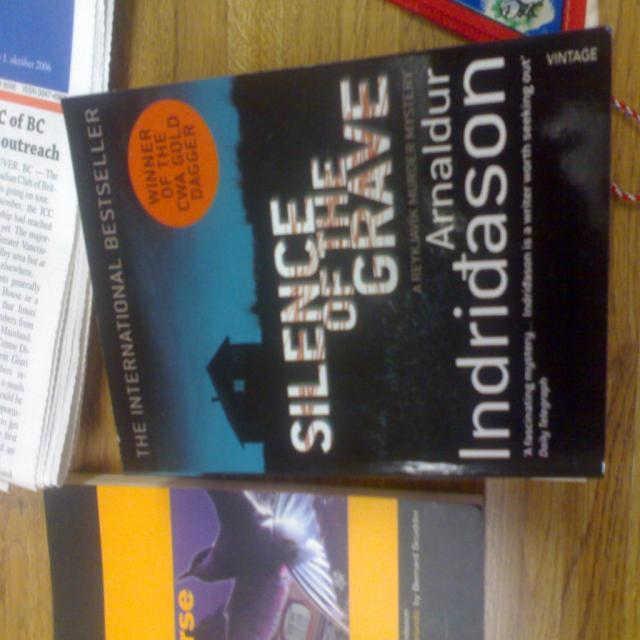book: (60, 55, 614, 478)
